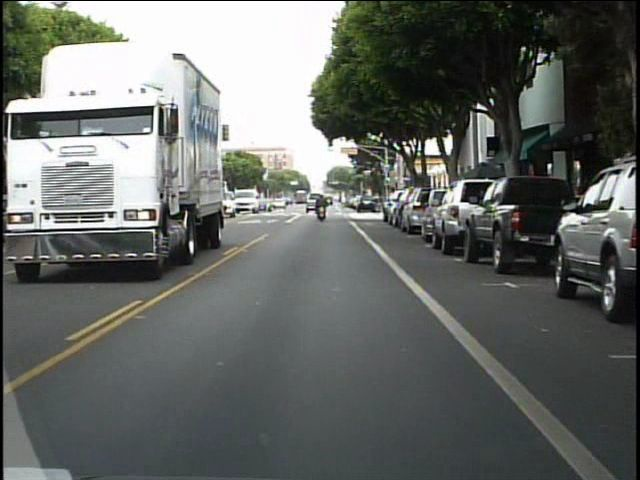person: (315, 192, 329, 223)
